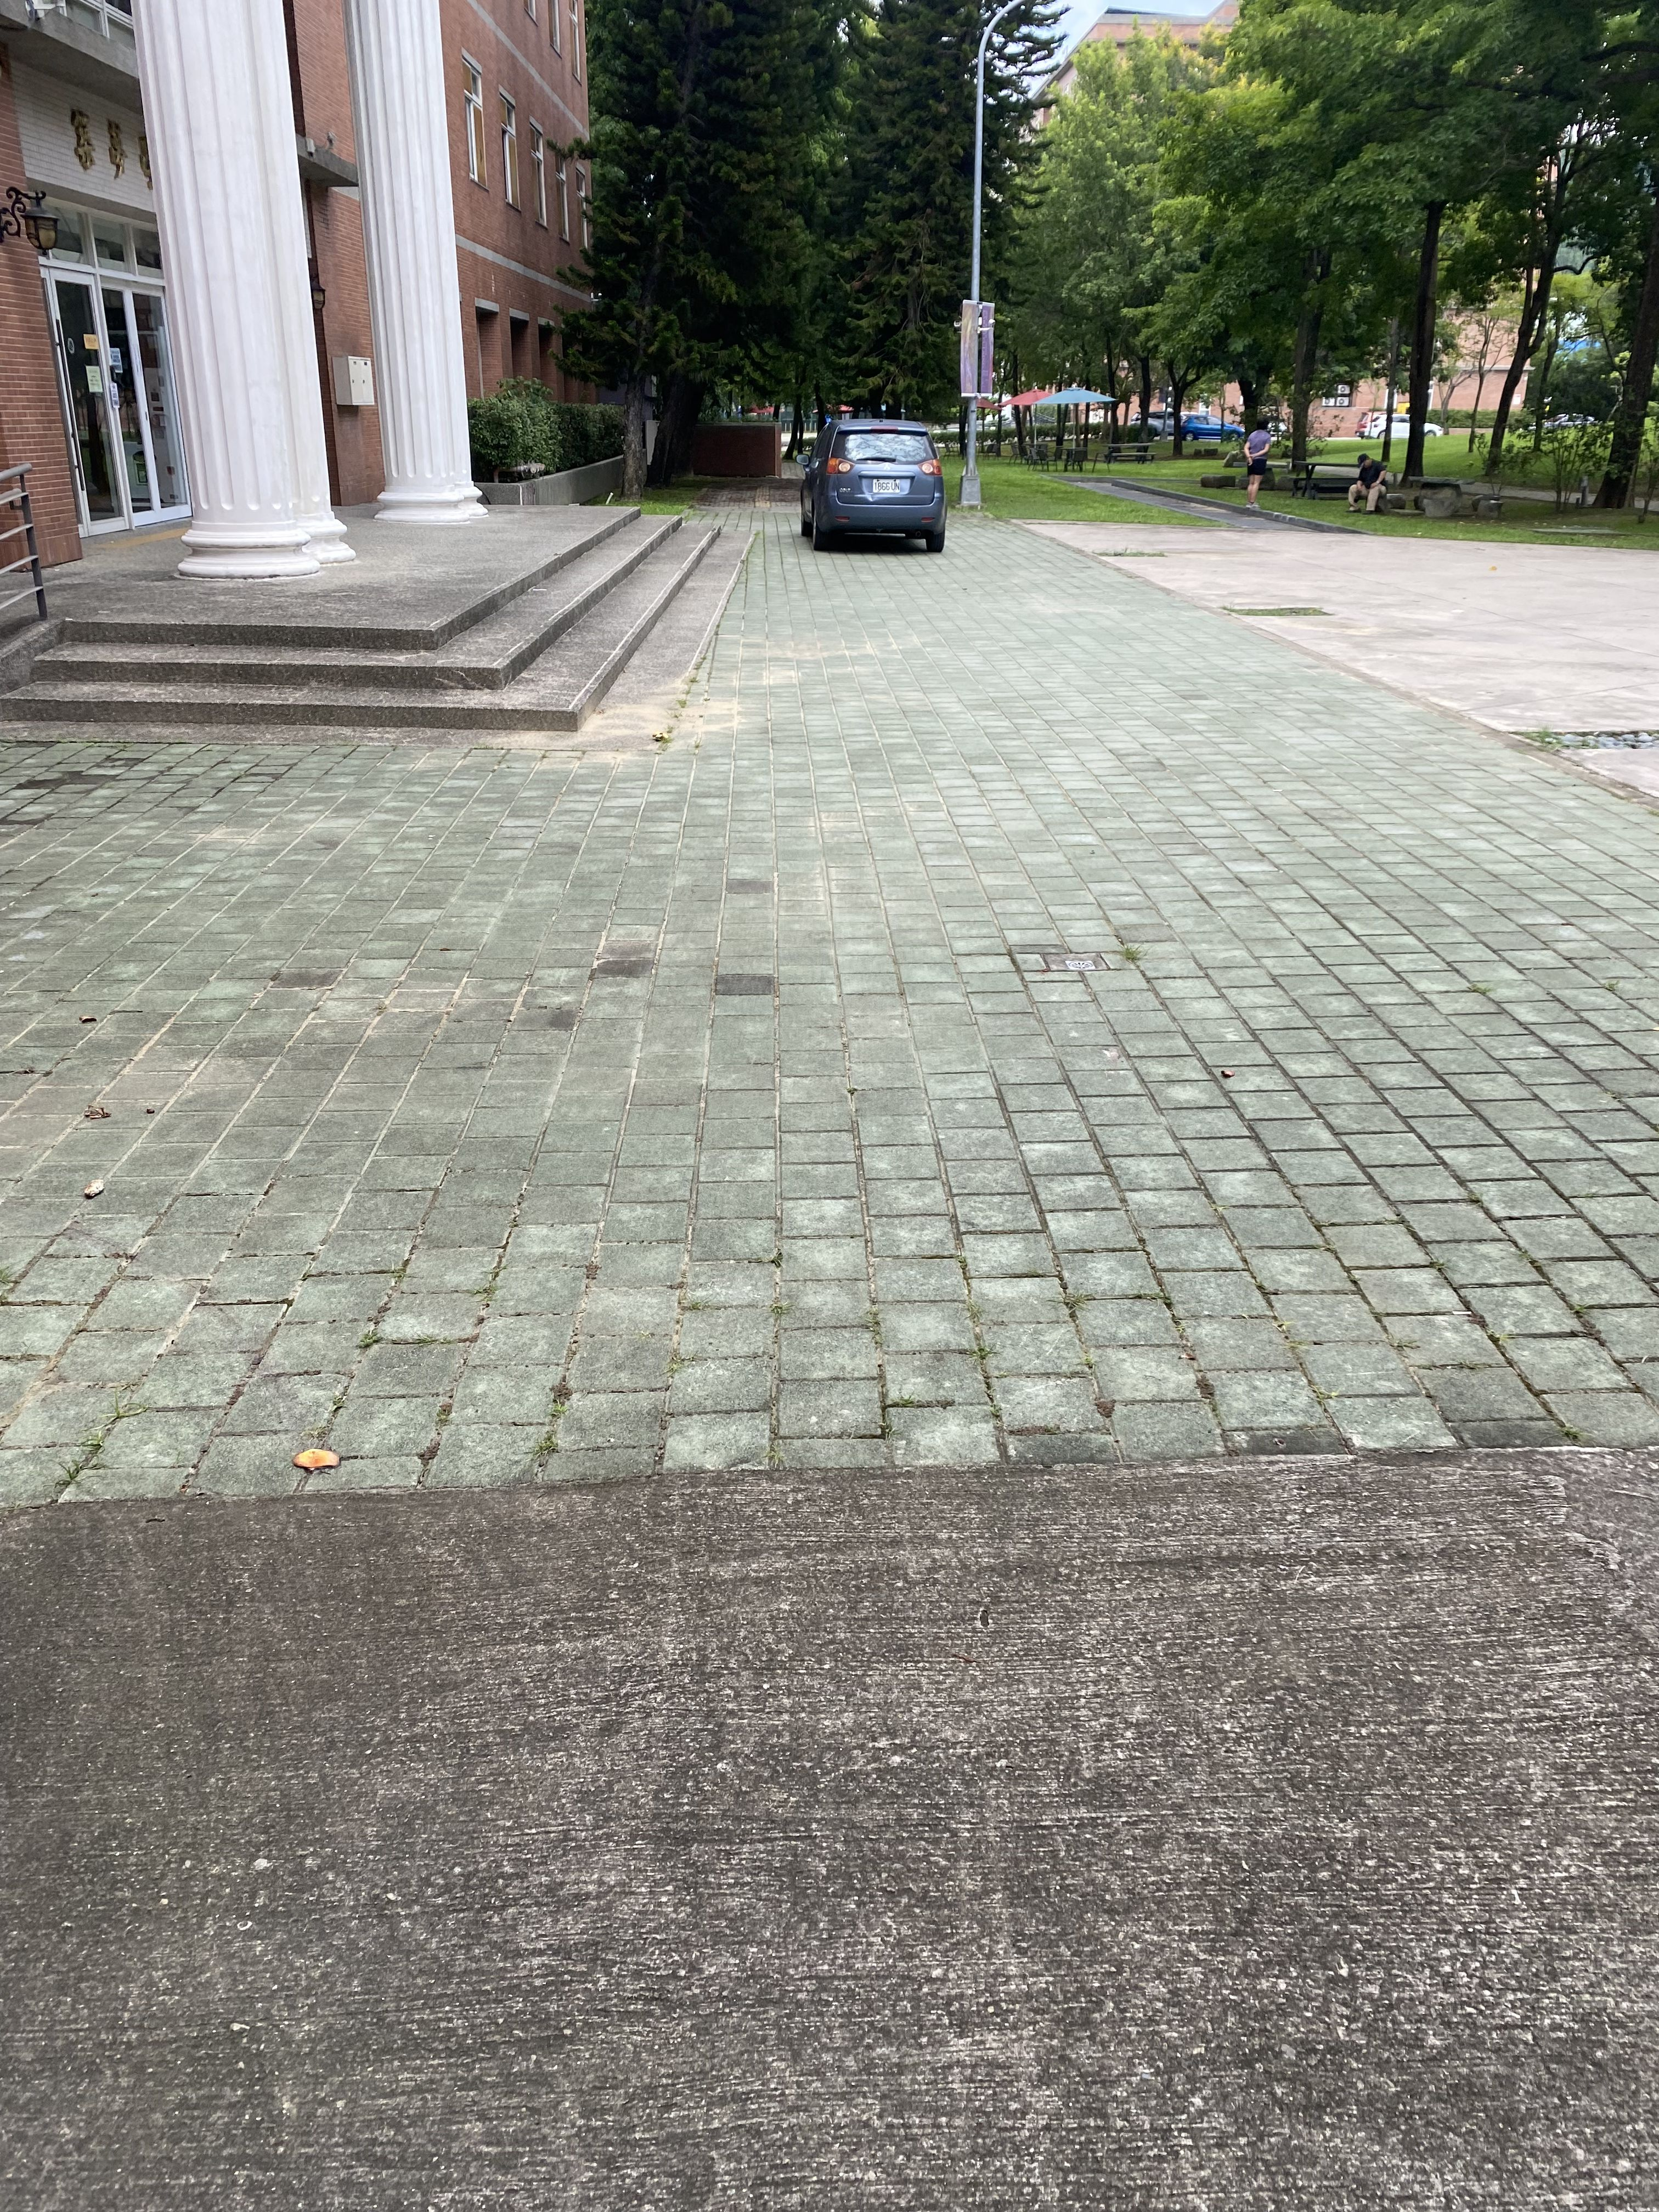sidewalk: (3, 467, 1659, 2212)
